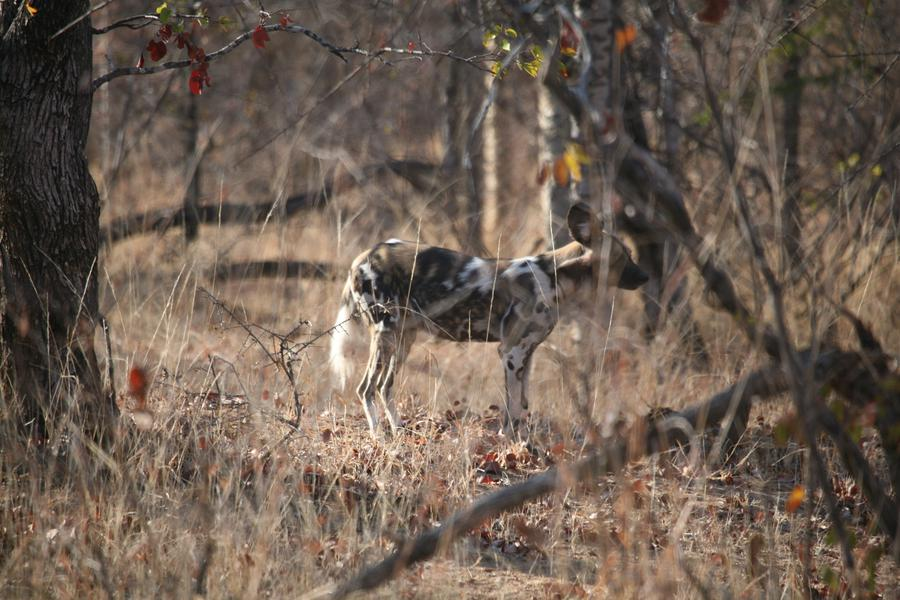wilddog: (333, 217, 624, 402)
